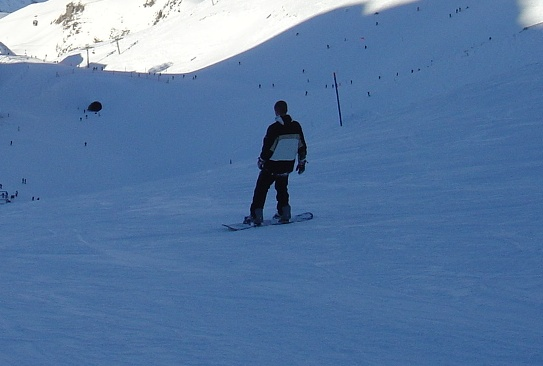person: (244, 98, 306, 232)
